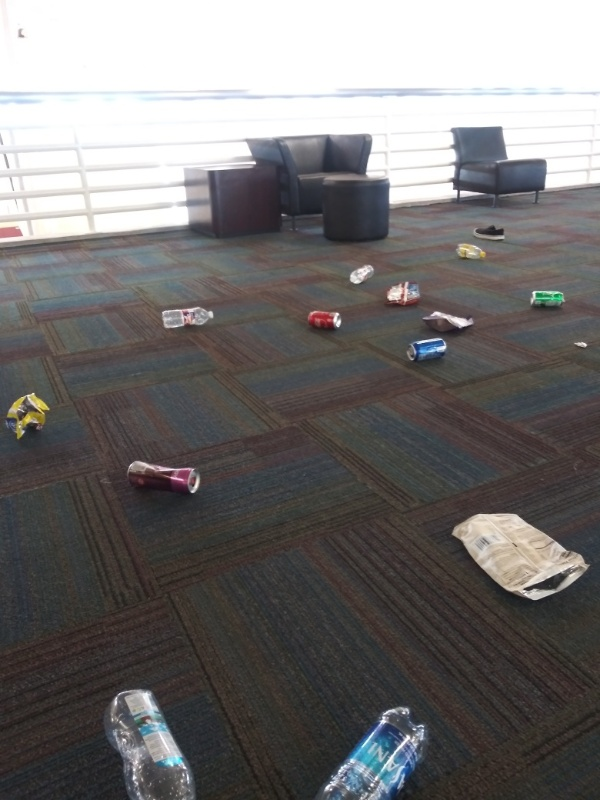bag: (448, 509, 591, 606), (4, 391, 51, 447), (423, 308, 478, 338), (383, 280, 426, 306)
bottle: (299, 703, 439, 800), (98, 685, 200, 800), (158, 302, 219, 333), (451, 238, 488, 266), (346, 260, 381, 287)
can: (122, 454, 203, 496), (403, 333, 451, 362), (300, 306, 344, 335), (523, 285, 568, 313)
